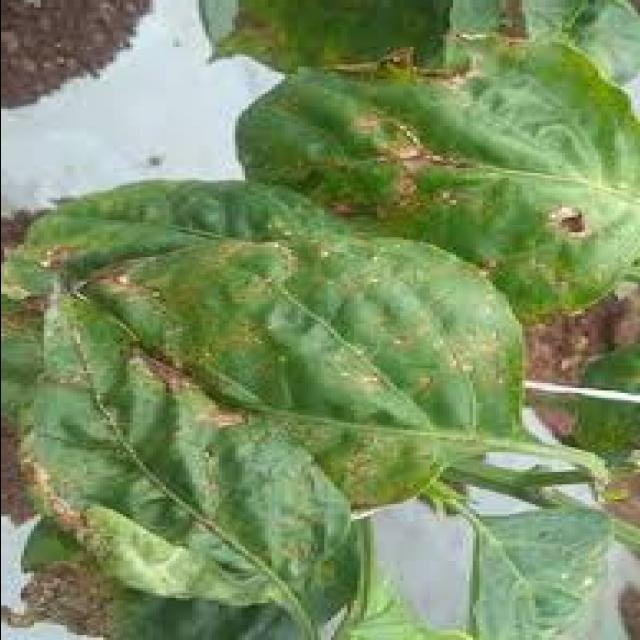bercak_daun: (13, 276, 359, 606)
